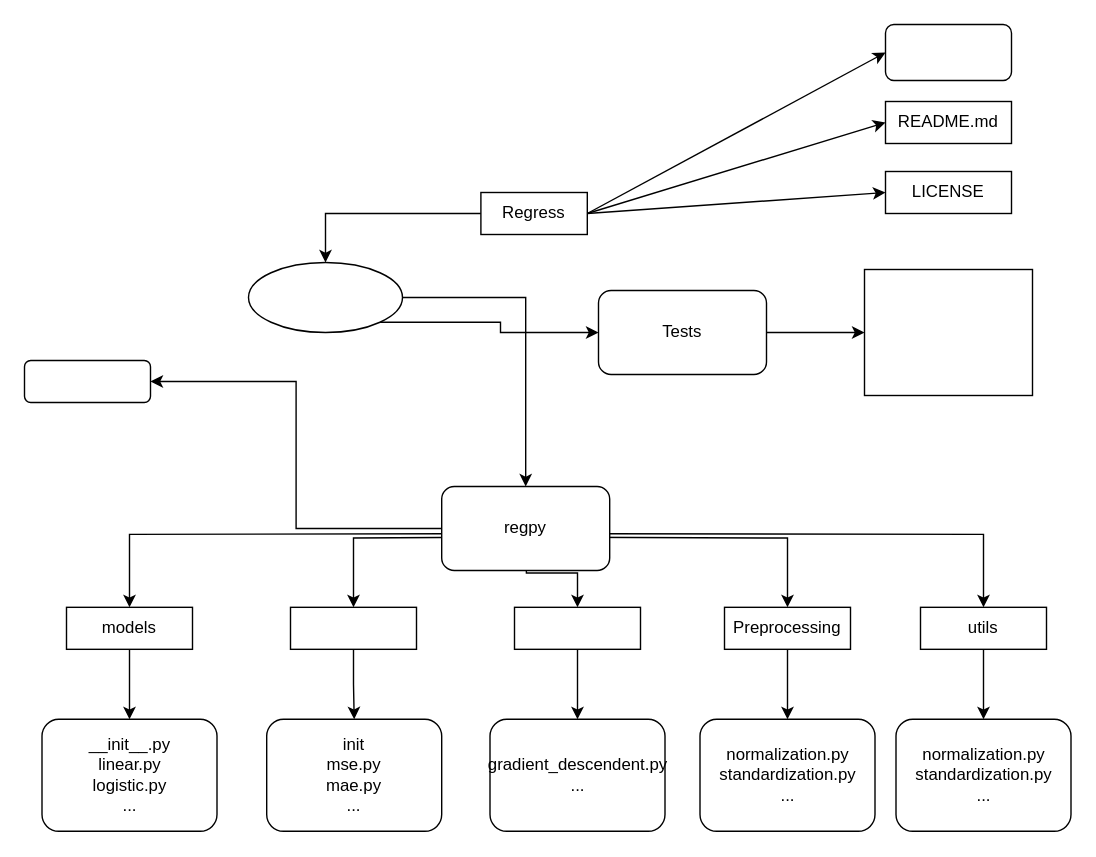
The diagram is 1096 pixels wide and 857 high, and some of its shapes have lost their labels. The box of each missing label's shape, as (x1, y1, x2, y2) in pixels:
__init__.py: (23, 359, 150, 402)
metrics: (289, 606, 416, 649)
Optimizations: (513, 606, 640, 649)
Pyproject.toml: (884, 23, 1011, 80)
SRC: (247, 261, 402, 332)
test_linear.py test_logistic.py test_metrics,py: (863, 268, 1032, 396)
